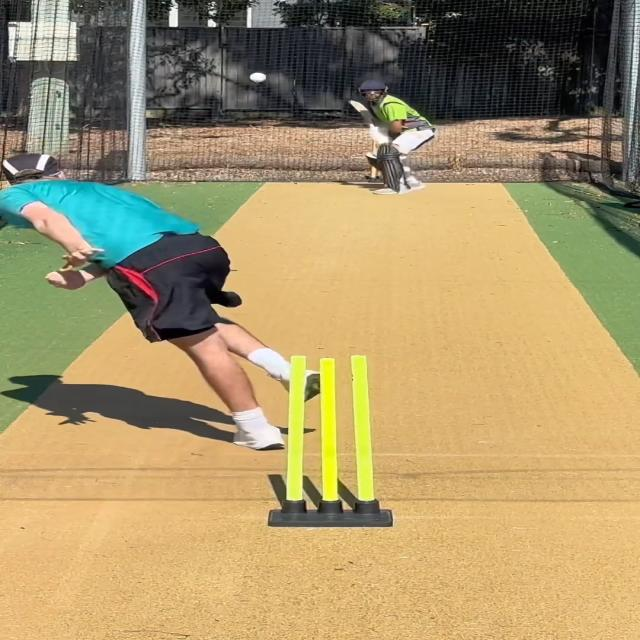Cricket ball: (247, 70, 269, 84), (364, 151, 377, 159)
